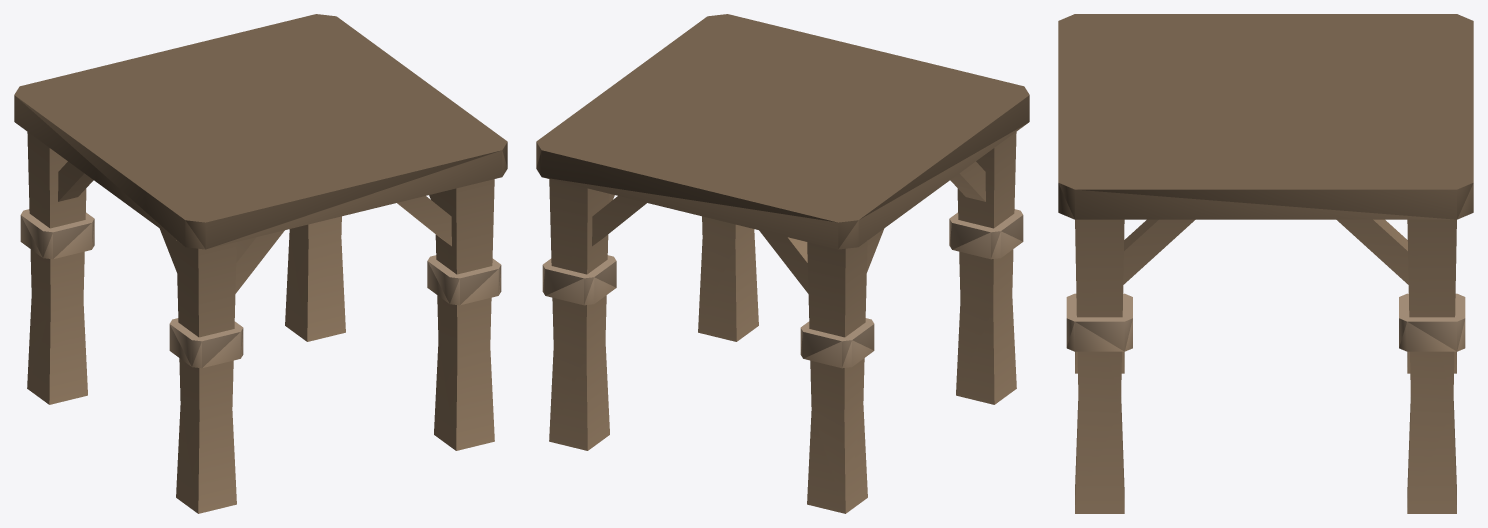
The model's file is K_Hut.glb.
3 views of the same model, side by side, from view 1: azimuth 30°, elevation 25°; view 2: azimuth 150°, elevation 25°; view 3: azimuth 270°, elevation 25° (orthographic). The views are drawn at different scales.
Parts seen in each view (by area): view 1: K_Hut; view 2: K_Hut; view 3: K_Hut.
Boxes of the visible parts, bbox=[...] form: K_Hut: bbox=[14, 14, 507, 513]; K_Hut: bbox=[536, 14, 1029, 513]; K_Hut: bbox=[1058, 14, 1473, 513].
Size of the model in its own units: 4.25 by 3.74 by 4.25.
